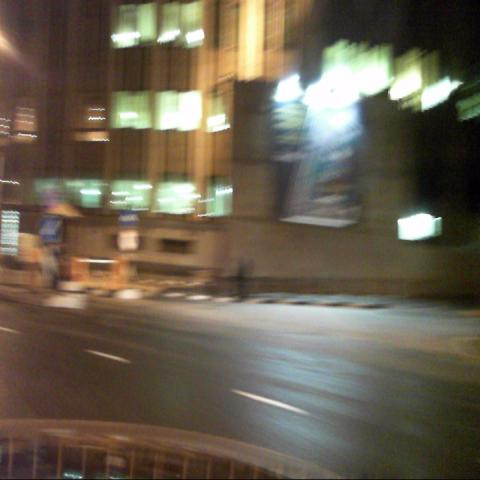4_2_2: (50, 216, 64, 243)
